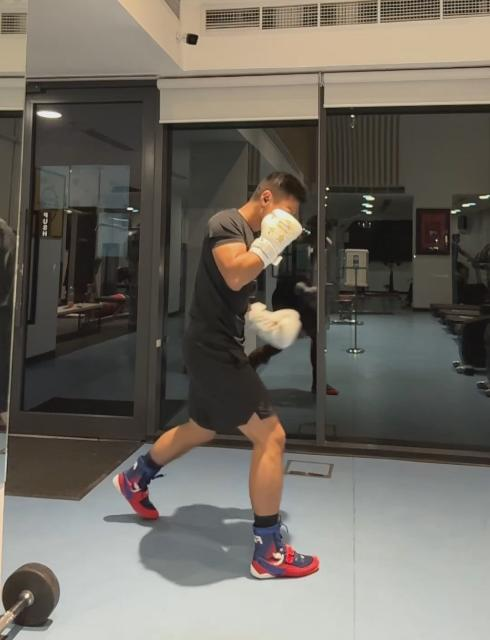punch: (113, 171, 320, 581)
